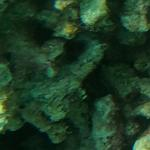dead: (5, 2, 145, 148)
